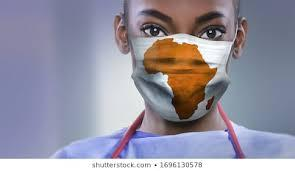Wearing Mask: (116, 0, 248, 132)
